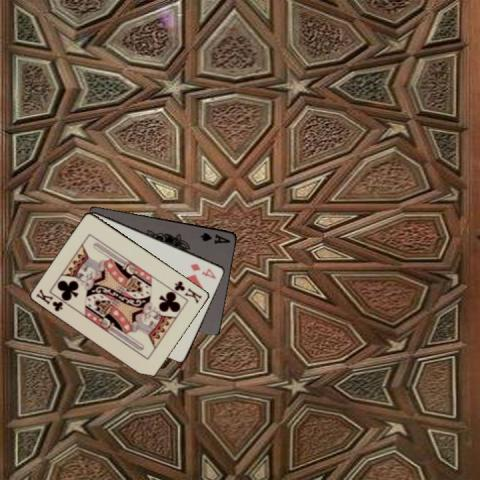4d: (188, 260, 217, 280)
As: (198, 230, 232, 246)
Kc: (172, 278, 204, 305), (33, 286, 65, 313)
